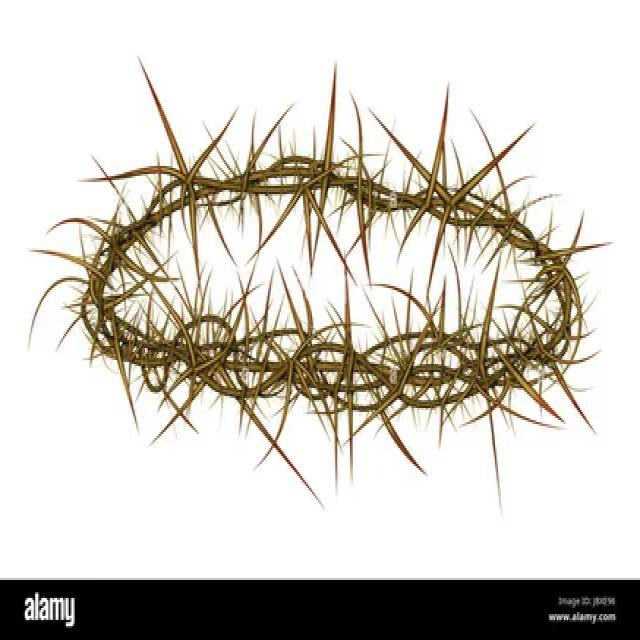crown: (53, 124, 599, 442)
